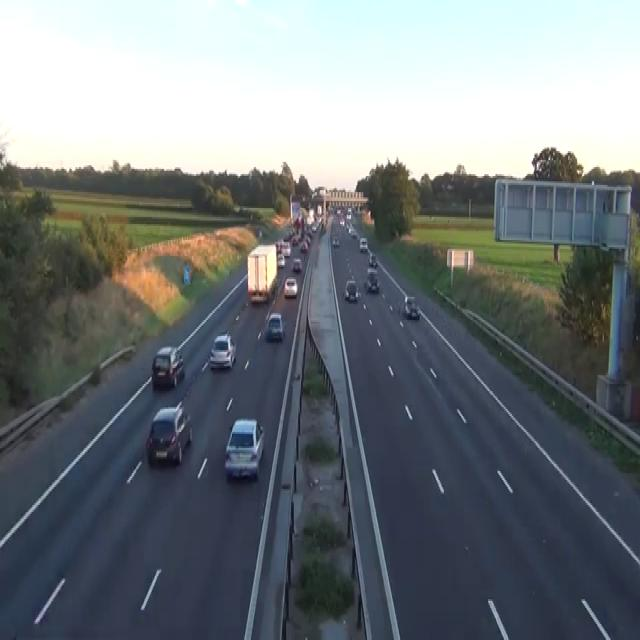Car: (145, 400, 192, 466), (224, 418, 264, 480), (151, 345, 184, 387), (209, 332, 236, 370), (265, 311, 284, 341), (403, 295, 420, 318), (364, 268, 379, 292), (344, 279, 359, 301), (283, 277, 297, 297), (366, 267, 377, 281), (359, 236, 368, 252), (292, 256, 301, 272), (368, 252, 377, 266), (281, 242, 290, 256), (277, 252, 285, 266), (331, 235, 340, 247), (300, 240, 307, 252), (349, 226, 357, 236), (275, 240, 281, 252), (233, 203, 240, 213), (291, 235, 298, 245), (328, 204, 335, 213), (446, 183, 454, 190), (346, 208, 351, 219), (339, 217, 344, 226), (311, 222, 316, 231), (336, 206, 341, 215), (351, 230, 357, 237), (258, 228, 262, 238)
Truck: (247, 244, 277, 302)
